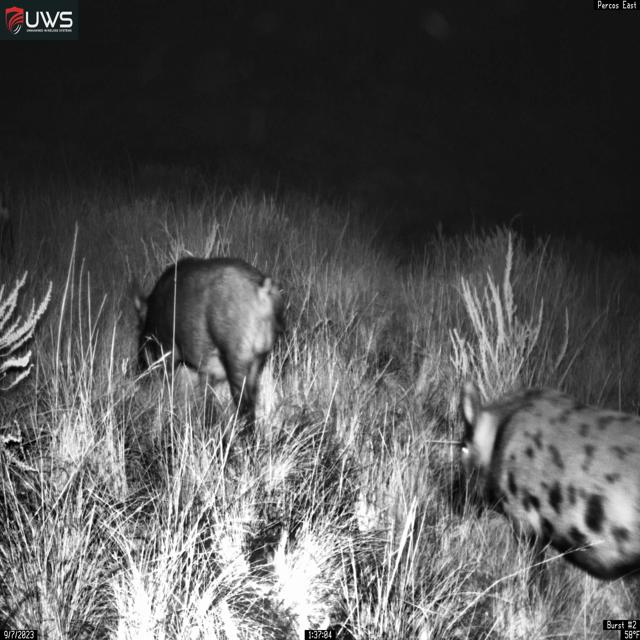pig: (131, 255, 287, 440)
